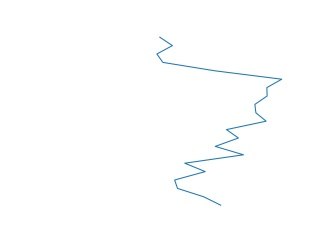floodPlain: (154, 34, 284, 207)
